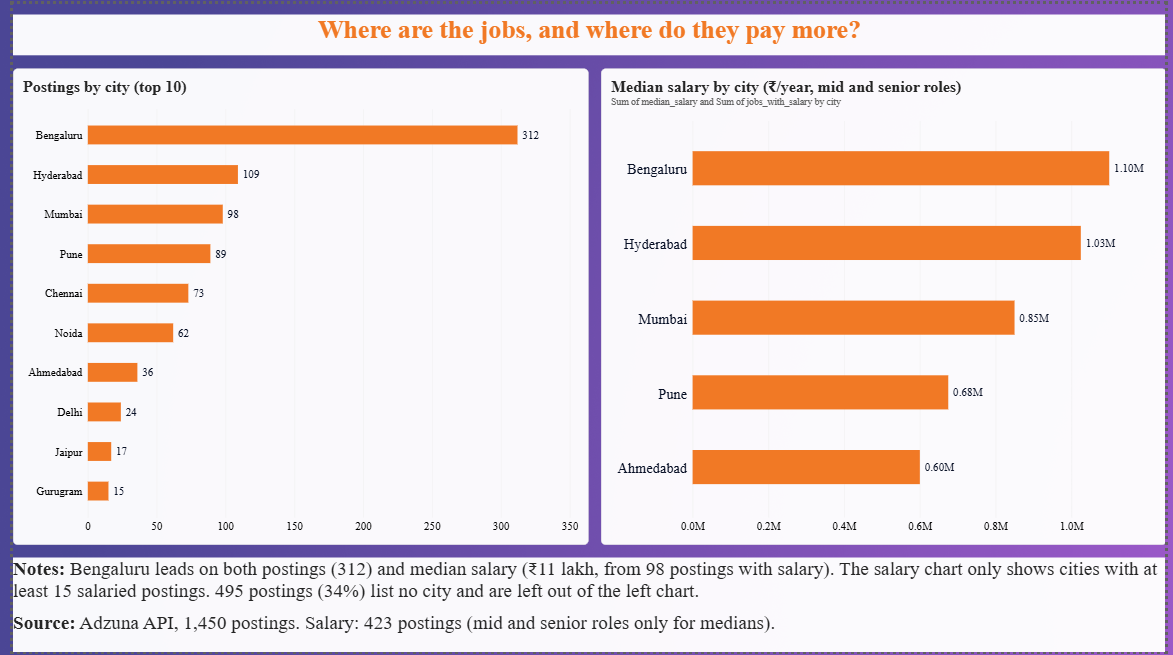

The dashboard page shown, as its layout file describes it:
{"tool":"powerbi","page":{"name":"Cities","canvas":[1920,1080],"ordinal":2},"visuals":[{"type":"textbox","box":[0,17,1921.2,68],"z":0},{"type":"clusteredBarChart","title":"Postings by city (top 10)","fields":{"Category":["clean_jobs_final.city"],"Y":["clean_jobs_final.Total Jobs"]},"box":[0,106.9,959.4,794.2],"z":1000},{"type":"clusteredBarChart","title":"Median salary by city (₹/year, mid and senior roles)","fields":{"Category":["q4_median_salary_by_city.city"],"Y":["Sum(q4_median_salary_by_city.median_salary)"]},"box":[978.8,106.9,942.4,794.2],"z":2000},{"type":"textbox","box":[0,923,1921.2,157.9],"z":3000}]}

Visuals, with their boxes in screenshot pixels (x1, y1, x2, y2), scaled from the page's 1920x1080 canvas onto the 1173x655 screenshot:
textbox: bbox(0, 10, 1172, 52)
"Postings by city (top 10)" clusteredBarChart: bbox(0, 65, 586, 547)
"Median salary by city (₹/year, mid and senior roles)" clusteredBarChart: bbox(598, 65, 1172, 547)
textbox: bbox(0, 560, 1172, 654)
